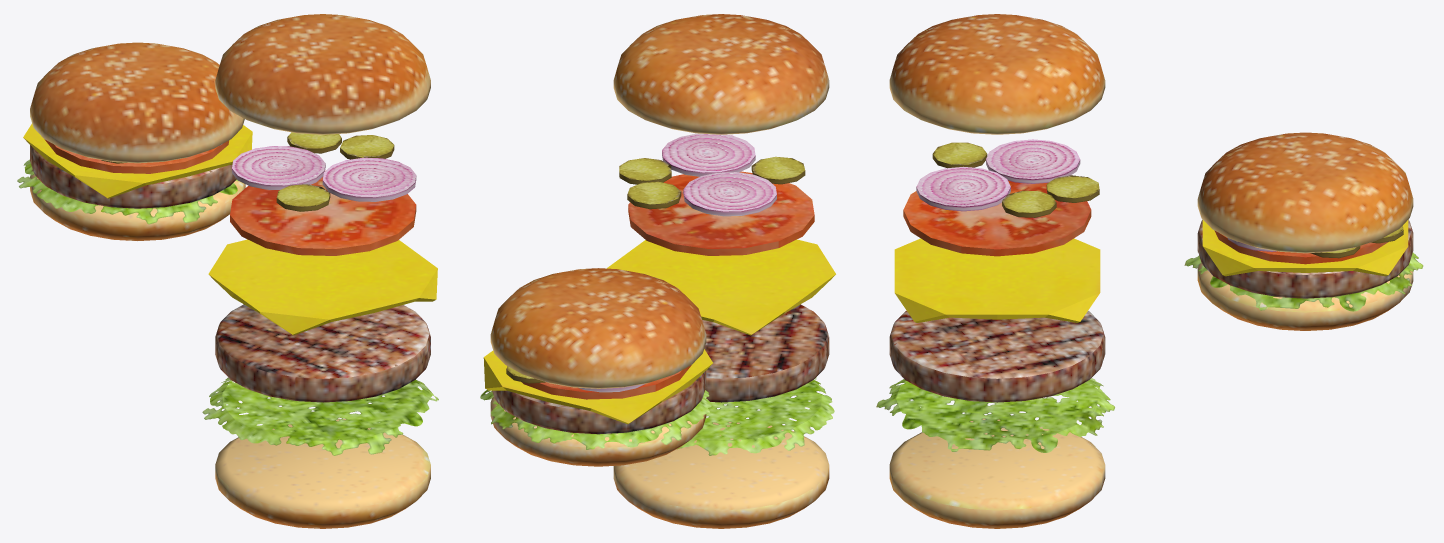
Rendered from burger.fbx.
3 views of the same model, side by side, from view 1: azimuth 30°, elevation 25°; view 2: azimuth 150°, elevation 25°; view 3: azimuth 270°, elevation 25° (orthographic).
Parts seen in each view (by area): view 1: Circle.007, Circle.003, Circle.005, Circle.004, Plane.001, Circle.006, Cylinder.008, Circle.002, Circle, Plane, Cylinder.010, Cylinder.009 (+5 smaller); view 2: Circle.007, Circle.003, Circle.004, Plane.001, Circle.005, Cylinder.008, Circle.006, Circle.002, Circle, Plane, Cylinder.009, Cylinder.010 (+5 smaller); view 3: Circle.003, Circle.007, Circle.004, Circle.005, Plane.001, Circle.006, Cylinder.008, Circle, Circle.002, Plane, Cylinder.010, Cylinder.009 (+5 smaller).
Boxes of the visible parts, box(x1,y1,x2,y2) form: Circle.007: box(215, 14, 430, 134); Circle.003: box(30, 42, 244, 163); Circle.005: box(215, 304, 430, 402); Circle.004: box(215, 418, 430, 528); Plane.001: box(208, 239, 437, 335); Circle.006: box(202, 377, 438, 455); Cylinder.008: box(230, 170, 416, 255); Circle.002: box(30, 145, 236, 208); Circle: box(30, 170, 245, 240); Plane: box(23, 123, 252, 198); Cylinder.010: box(322, 157, 416, 201); Cylinder.009: box(232, 146, 325, 189); Circle.007: box(613, 14, 829, 134); Circle.003: box(490, 268, 706, 388); Circle.004: box(613, 422, 829, 528); Plane.001: box(607, 239, 835, 335); Circle.005: box(702, 304, 829, 402); Cylinder.008: box(628, 171, 814, 255); Circle.006: box(677, 377, 834, 455); Circle.002: box(492, 371, 706, 434); Circle: box(490, 397, 706, 466); Plane: box(483, 349, 712, 424); Cylinder.009: box(683, 172, 776, 216); Cylinder.010: box(662, 133, 755, 176); Circle.003: box(1197, 132, 1413, 253); Circle.007: box(889, 14, 1105, 134); Circle.004: box(889, 418, 1105, 528); Circle.005: box(889, 311, 1105, 402); Plane.001: box(894, 238, 1100, 322); Circle.006: box(876, 378, 1114, 452); Cylinder.008: box(903, 180, 1091, 256); Circle: box(1197, 263, 1413, 330); Circle.002: box(1197, 219, 1413, 298); Plane: box(1202, 220, 1408, 276); Cylinder.010: box(916, 166, 1010, 211); Cylinder.009: box(986, 139, 1080, 183).
Bounding box in the file's own units: 26.33 × 45.67 × 51.56.
